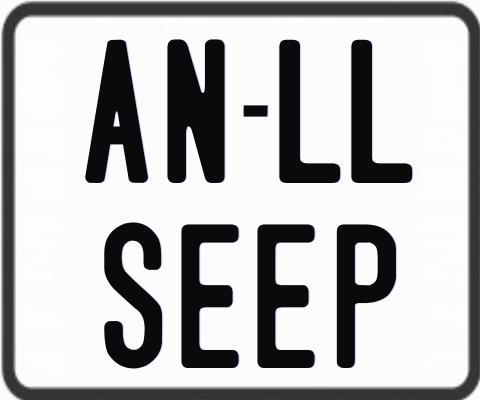A: (83, 39, 150, 184)
E: (257, 222, 316, 368), (178, 222, 237, 367)
L: (351, 40, 417, 185), (279, 37, 342, 185)
N: (166, 39, 224, 188)
P: (335, 222, 395, 367)
S: (102, 220, 163, 368)
